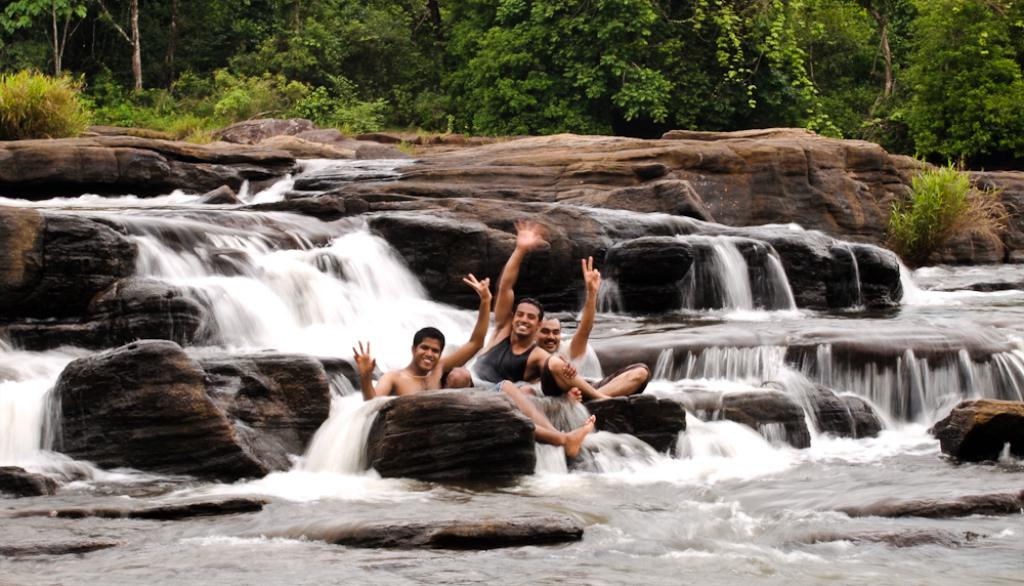Human-face: (512, 302, 541, 338), (414, 336, 442, 372), (543, 317, 558, 350)
